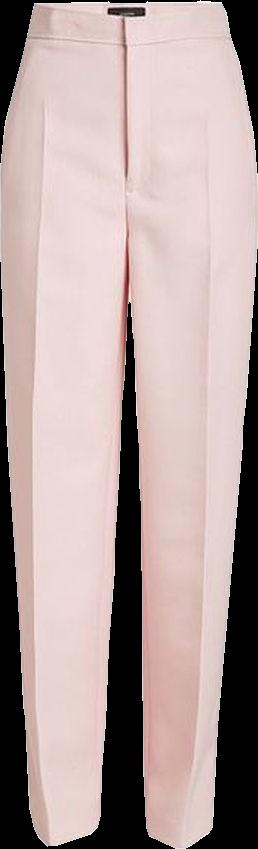Hemline: (142, 821, 218, 848), (30, 820, 103, 848)
Pantleg: (120, 2, 257, 848), (1, 1, 133, 845)
Waistline: (25, 30, 232, 49), (30, 0, 226, 15)
